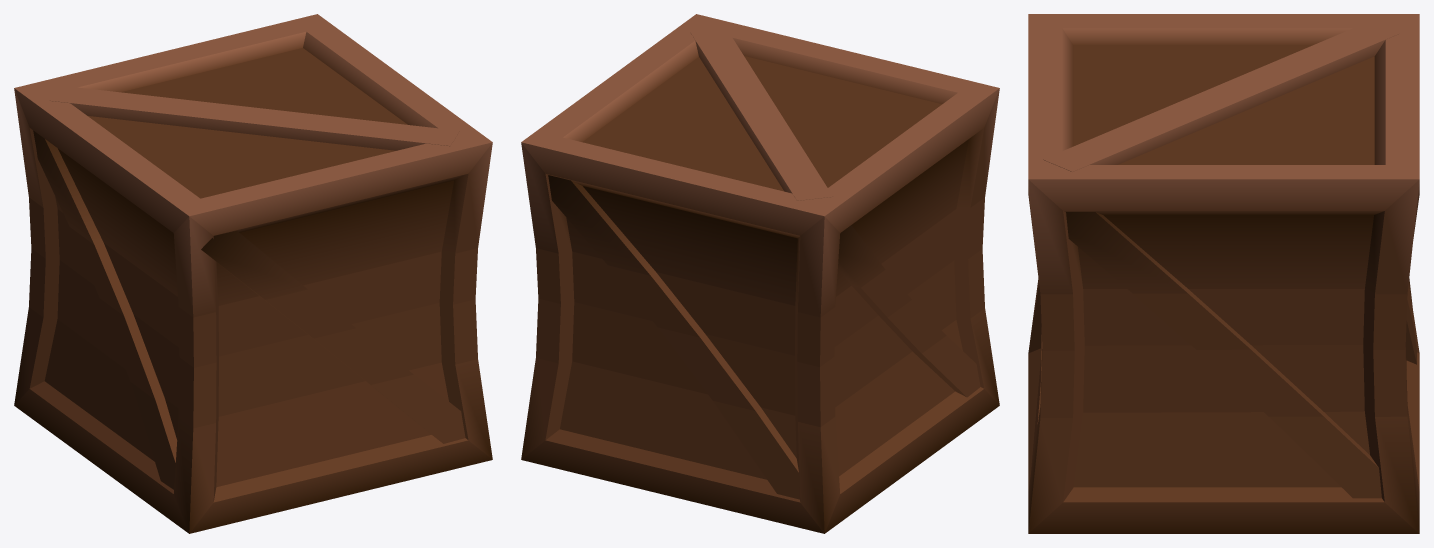
The model's file is Wooden Box.fbx.
The picture shows the model from 3 angles, left to right: view 1: azimuth 30°, elevation 25°; view 2: azimuth 150°, elevation 25°; view 3: azimuth 270°, elevation 25°; orthographic projection. The views are drawn at different scales.
Parts seen in each view (by area): view 1: Cartoon Box; view 2: Cartoon Box; view 3: Cartoon Box.
Boxes of the visible parts, left/top/right/bottom form: Cartoon Box: left=14, top=14, right=492, bottom=533; Cartoon Box: left=521, top=14, right=999, bottom=533; Cartoon Box: left=1028, top=14, right=1419, bottom=533.
Size of the model in its own units: 126 by 126 by 126.
